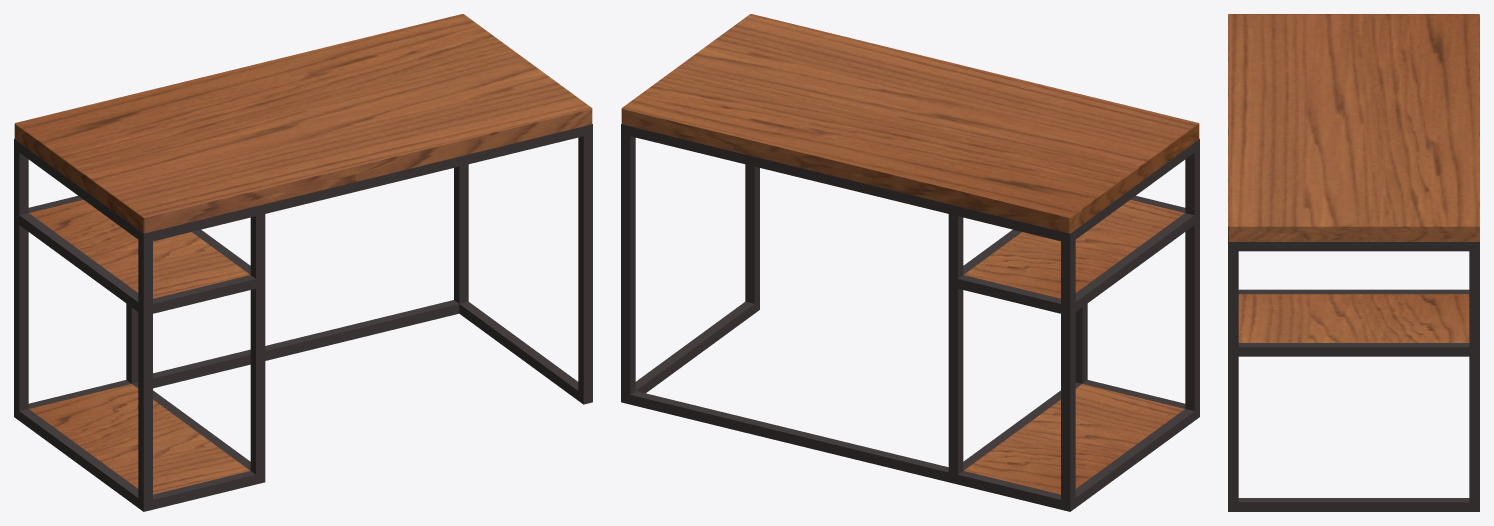
Rendered from table4.gltf.
The picture shows the model from 3 angles, left to right: view 1: azimuth 30°, elevation 25°; view 2: azimuth 150°, elevation 25°; view 3: azimuth 270°, elevation 25°; orthographic projection. The views are drawn at different scales.
Visible parts, largest first — view 1: Stoleshnica, Karkas, Polka2, Polka1; view 2: Stoleshnica, Karkas, Polka2, Polka1; view 3: Stoleshnica, Karkas, Polka2.
Boxes of the visible parts, x1,y1,x2,y2 form: Stoleshnica: [14, 14, 592, 233]; Karkas: [14, 124, 592, 511]; Polka2: [29, 384, 249, 494]; Polka1: [29, 199, 249, 298]; Stoleshnica: [621, 14, 1199, 233]; Karkas: [621, 124, 1199, 511]; Polka2: [964, 384, 1184, 494]; Polka1: [964, 199, 1184, 298]; Stoleshnica: [1228, 14, 1479, 241]; Karkas: [1228, 241, 1479, 511]; Polka2: [1238, 294, 1469, 342].
Size of the model in its own units: 1.2 by 0.75 by 0.6.
Materials: 2 (1 with a texture image).
